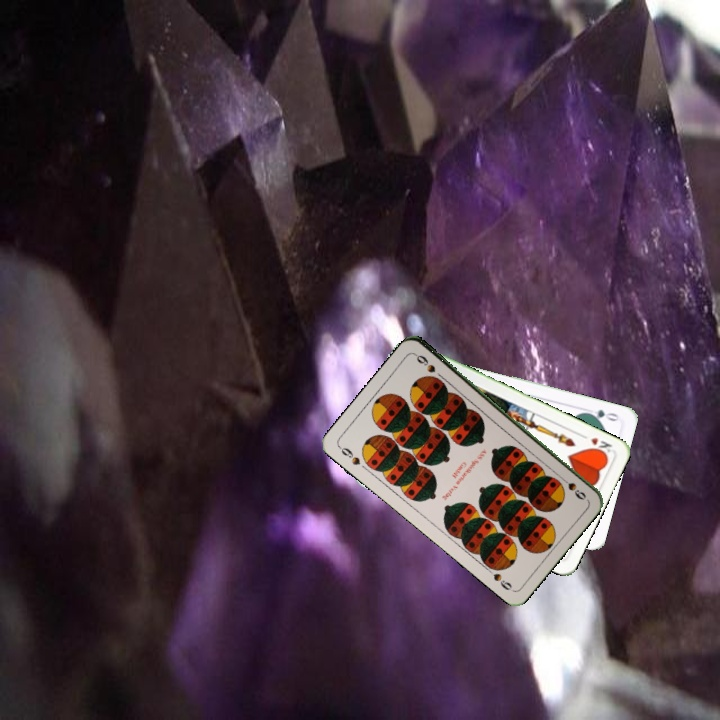GO: (581, 405, 621, 424)
HK: (576, 430, 614, 455)
S9: (555, 472, 589, 503), (335, 442, 363, 468)
